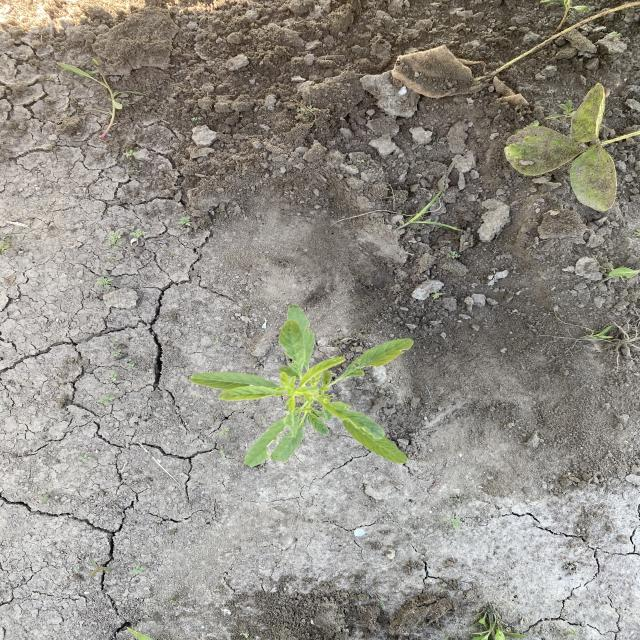Waterhemp: (188, 304, 416, 470)
